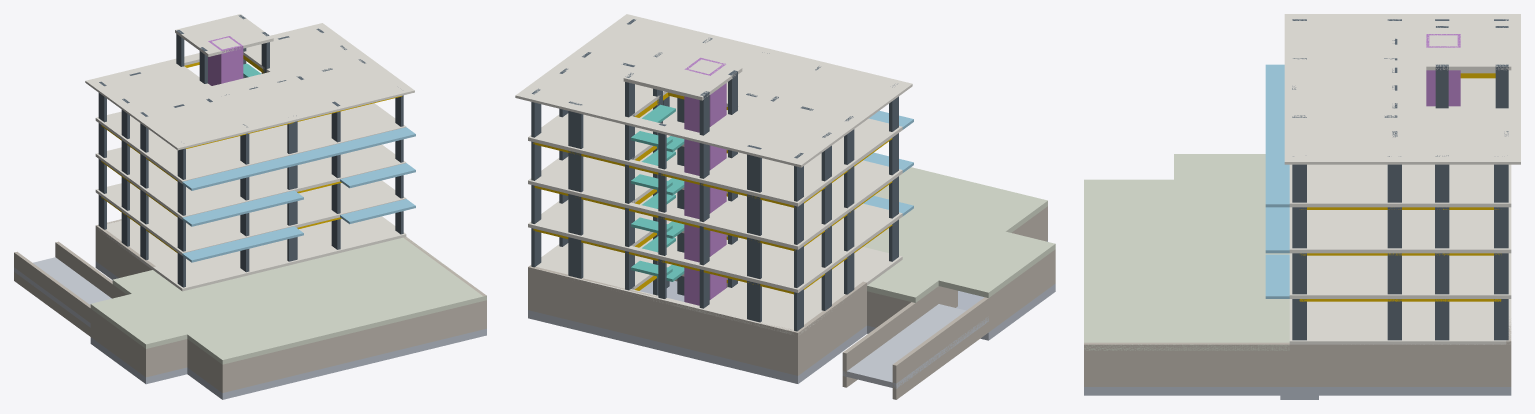
File: strutture.glb
3 renders of one model, left to right at view 1: azimuth 30°, elevation 25°; view 2: azimuth 150°, elevation 25°; view 3: azimuth 270°, elevation 25°, orthographic. The views are drawn at different scales.
Parts seen in each view (by area): view 1: solaio_autorimessa__INT__copertura1, solaio__COP__campo5, muro_contro_terra__INT__MGS, solaio__PT__campo6, solaio__P1__campo6, solaio__P2__campo6, solaio__P3__campo6, muro_contro_terra__INT__MMW, solaio__COP__campo1, solaio__COP__campo2, solaio_autorimessa__INT__copertura3, balcone__P3__sbalzo8 (+26 smaller); view 2: muro_contro_terra__INT__MN, solaio__COP__campo5, solaio_autorimessa__INT__copertura1, muro_contro_terra__INT__MMW, solaio__COP__campo1, solaio__COP__campo2, solaio_autorimessa__INT__copertura3, solaio__P1__campo1, solaio__P2__campo1, solaio__P3__campo1, rampa__FOND__rampa, solaio__COP__torrino (+37 smaller); view 3: solaio_autorimessa__INT__copertura1, muro_contro_terra__INT__ME, solaio__COP__campo5, solaio__COP__campo2, solaio__P2__campo6, solaio__PT__campo6, solaio__P1__campo6, solaio__P2__campo2, solaio__P3__campo2, solaio__P1__campo2, solaio__PT__campo2, solaio__COP__torrino (+37 smaller).
Part boxes in pixels (box(x1,y1,x2,y2)): solaio_autorimessa__INT__copertura1: box(142, 237, 486, 364); solaio__COP__campo5: box(141, 60, 405, 145); muro_contro_terra__INT__MGS: box(220, 300, 486, 392); solaio__PT__campo6: box(141, 216, 406, 291); solaio__P1__campo6: box(141, 180, 406, 255); solaio__P2__campo6: box(141, 144, 406, 219); solaio__P3__campo6: box(141, 103, 395, 176); muro_contro_terra__INT__MMW: box(14, 251, 149, 377); solaio__COP__campo1: box(96, 62, 223, 115); solaio__COP__campo2: box(243, 27, 364, 80); solaio_autorimessa__INT__copertura3: box(90, 294, 187, 348); balcone__P3__sbalzo8: box(182, 127, 415, 190); muro_contro_terra__INT__MN: box(528, 265, 800, 375); solaio__COP__campo5: box(583, 17, 902, 119); solaio_autorimessa__INT__copertura1: box(863, 167, 1047, 271); muro_contro_terra__INT__MMW: box(892, 249, 1055, 399); solaio__COP__campo1: box(699, 96, 852, 159); solaio__COP__campo2: box(528, 54, 667, 118); solaio_autorimessa__INT__copertura3: box(938, 231, 1055, 297); solaio__P1__campo1: box(698, 237, 852, 292); solaio__P2__campo1: box(698, 194, 852, 249); solaio__P3__campo1: box(698, 152, 852, 206); rampa__FOND__rampa: box(842, 304, 988, 388); solaio__COP__torrino: box(623, 49, 742, 100); solaio_autorimessa__INT__copertura1: box(1084, 179, 1289, 350); muro_contro_terra__INT__ME: box(1084, 342, 1511, 386); solaio__COP__campo5: box(1289, 18, 1394, 157); solaio__COP__campo2: box(1395, 106, 1511, 157); solaio__P2__campo6: box(1289, 207, 1394, 253); solaio__PT__campo6: box(1289, 299, 1394, 344); solaio__P1__campo6: box(1289, 253, 1394, 298); solaio__P2__campo2: box(1395, 207, 1511, 253); solaio__P3__campo2: box(1395, 164, 1511, 207); solaio__P1__campo2: box(1395, 253, 1511, 298); solaio__PT__campo2: box(1395, 299, 1511, 344); solaio__COP__torrino: box(1426, 26, 1511, 70).
Bounding box in the file's own units: 28.7 × 20.3 × 27.2.
